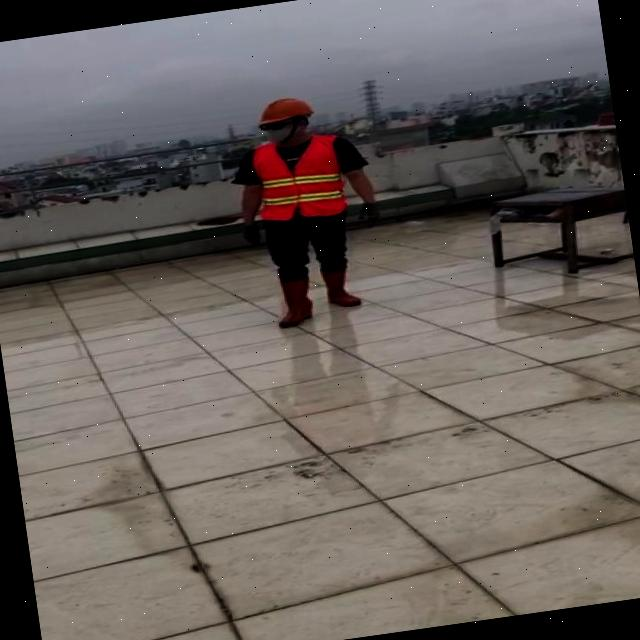boots: (276, 278, 316, 328), (324, 268, 363, 310)
helmet: (253, 92, 317, 126)
vest: (249, 134, 346, 223)
